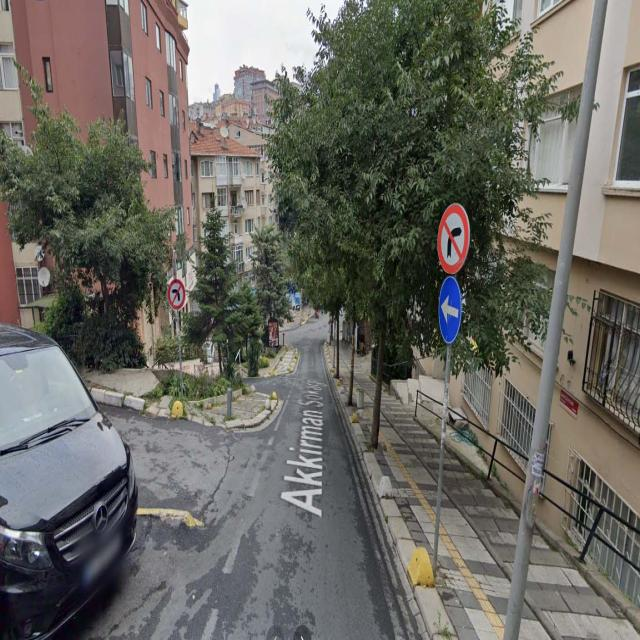sagadonulmez: (438, 202, 470, 274)
sol: (438, 276, 462, 345)
soladonulmez: (167, 279, 185, 311)
